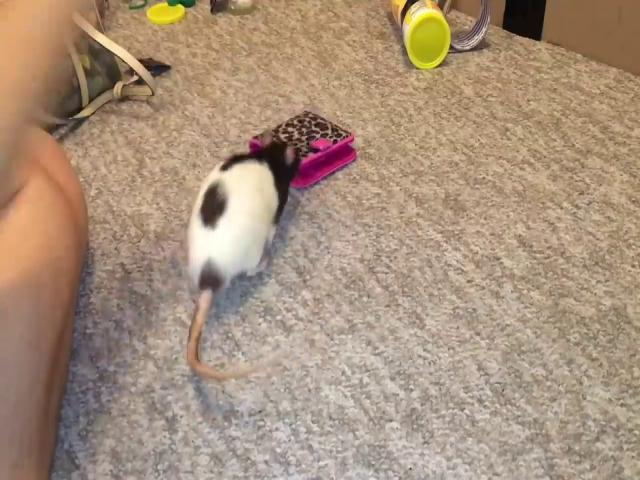Tikus: (186, 132, 302, 297)
